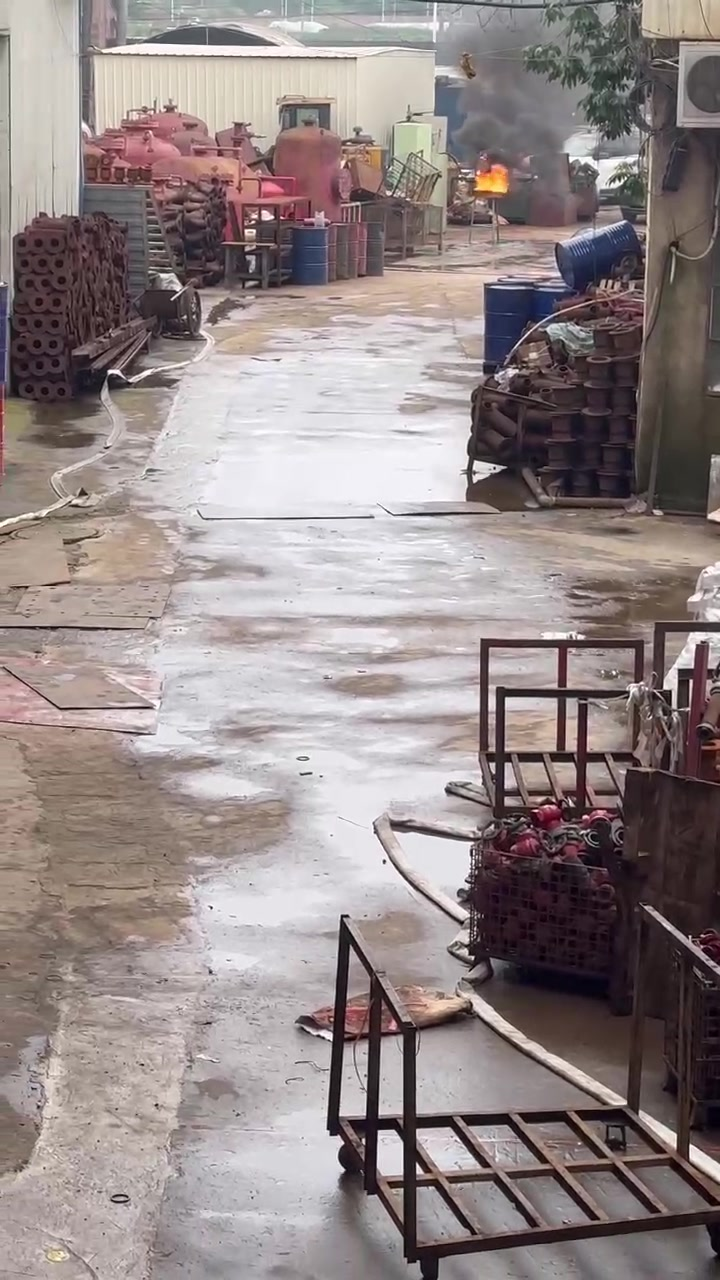fire: (475, 163, 508, 192)
